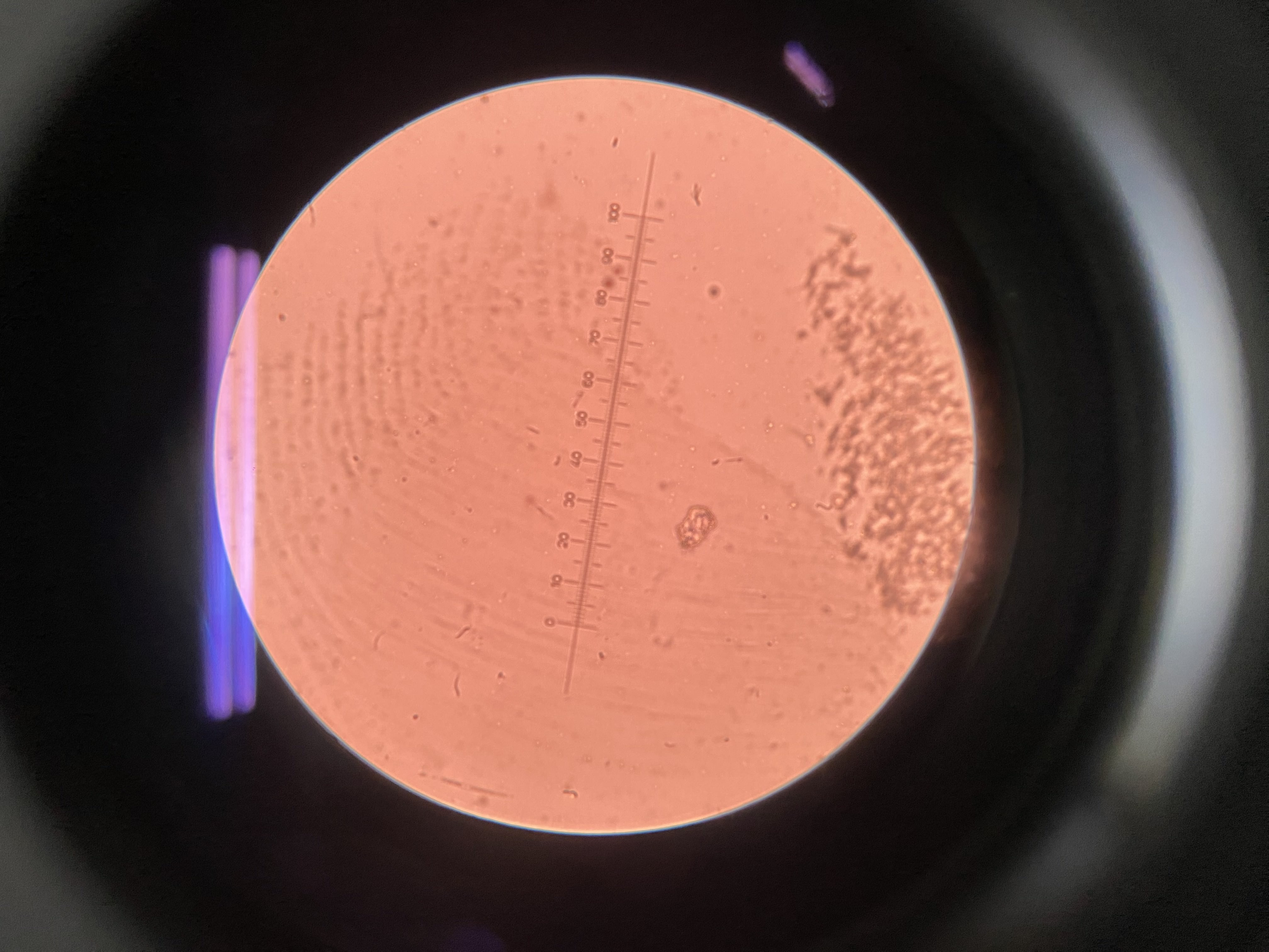not_microplastic: (798, 220, 993, 625), (676, 504, 721, 552), (524, 495, 555, 521), (688, 176, 706, 207), (451, 672, 465, 701), (704, 281, 722, 299), (371, 630, 384, 650), (610, 133, 625, 146), (453, 628, 472, 638)
